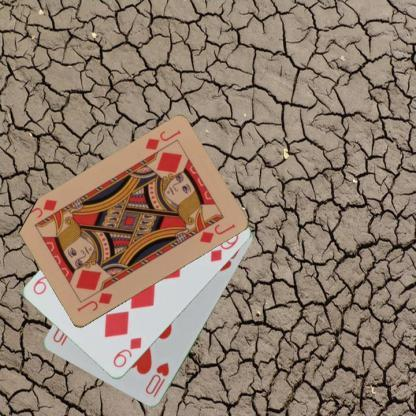10h: (142, 360, 171, 399)
9d: (110, 334, 144, 370)
Jd: (74, 290, 114, 314), (142, 128, 182, 152)
